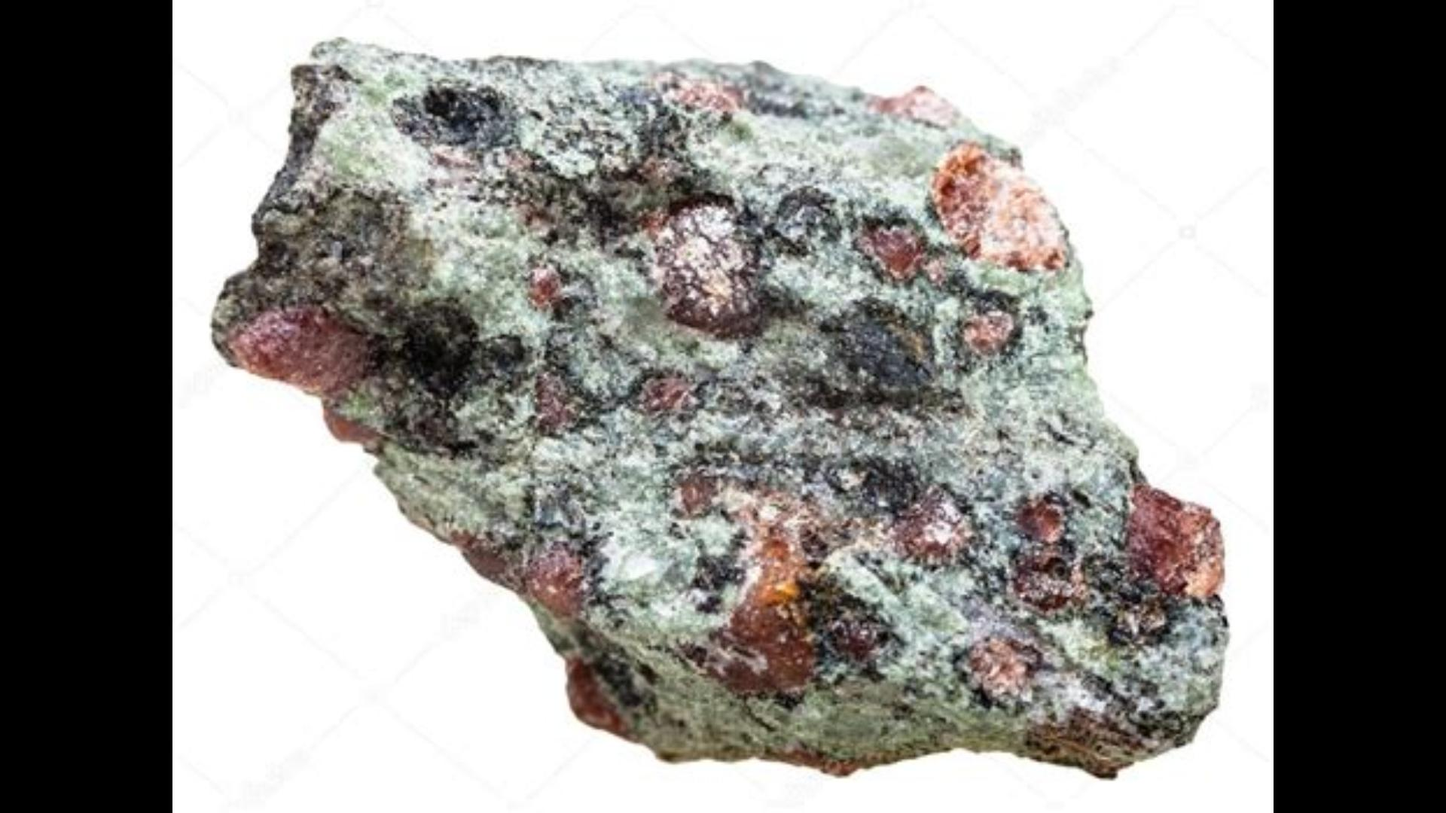rock: (217, 42, 1218, 774)
